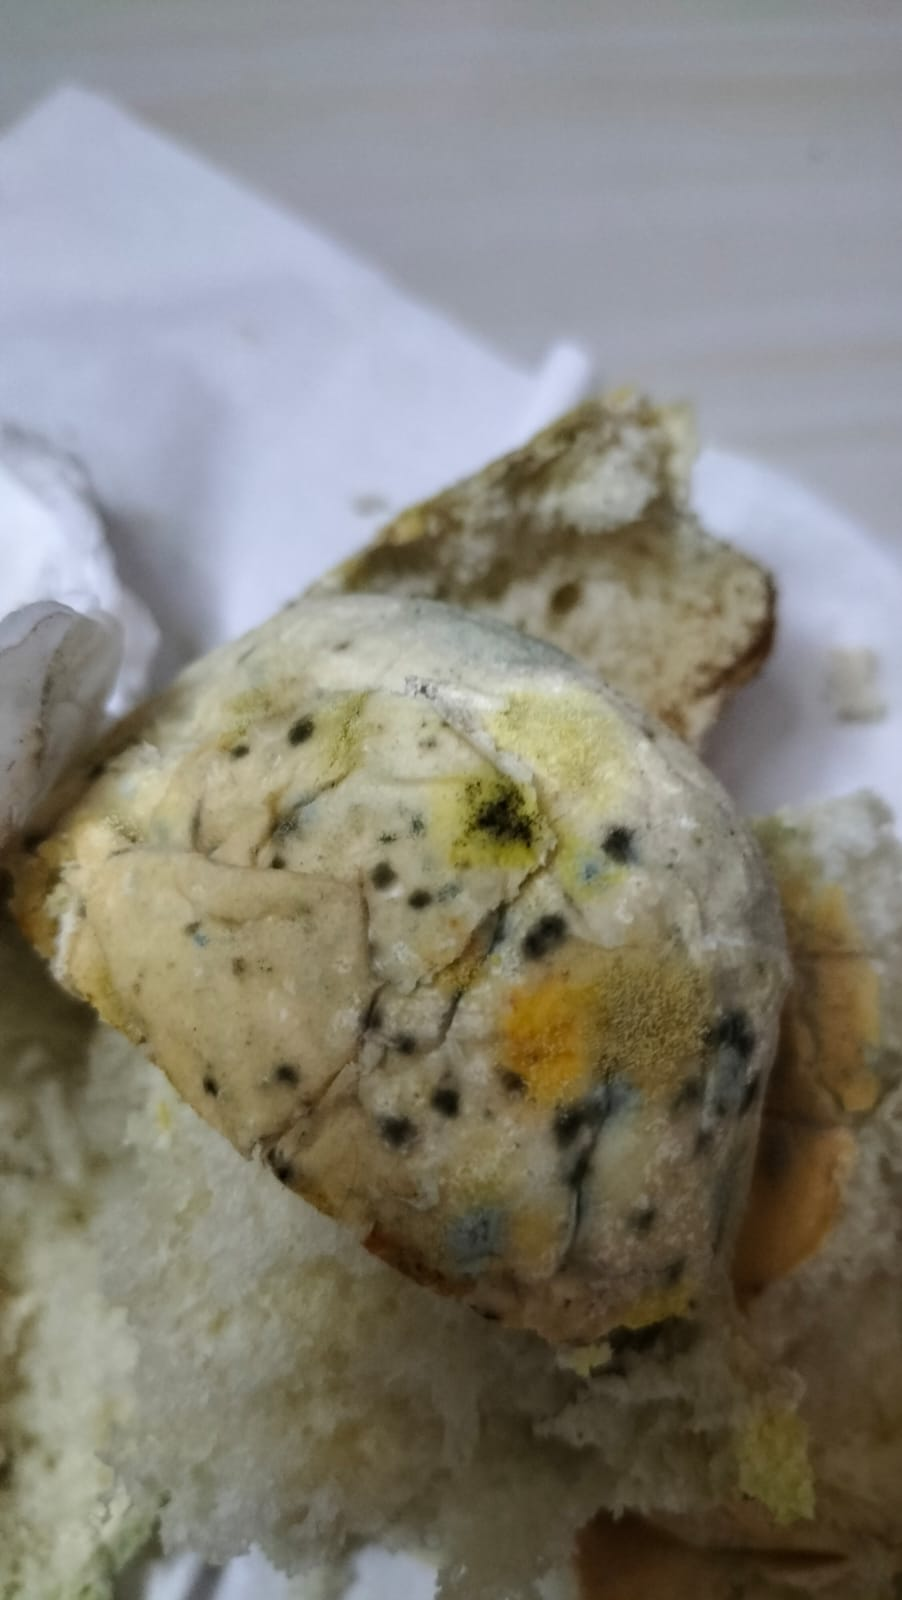mold_bread: (538, 1084, 620, 1196), (667, 1073, 768, 1162), (450, 781, 550, 868), (348, 1000, 425, 1074), (442, 1203, 515, 1274), (264, 791, 312, 881), (509, 905, 577, 965), (250, 1136, 311, 1198), (693, 1012, 765, 1060), (594, 815, 643, 868), (374, 1109, 422, 1159), (370, 809, 430, 848), (407, 880, 474, 911), (650, 1251, 695, 1295), (281, 711, 331, 749), (427, 1077, 465, 1125), (361, 859, 404, 895), (272, 1057, 305, 1095), (190, 1067, 225, 1100), (187, 918, 214, 949), (633, 1201, 656, 1237), (229, 737, 252, 767), (229, 955, 252, 982)
